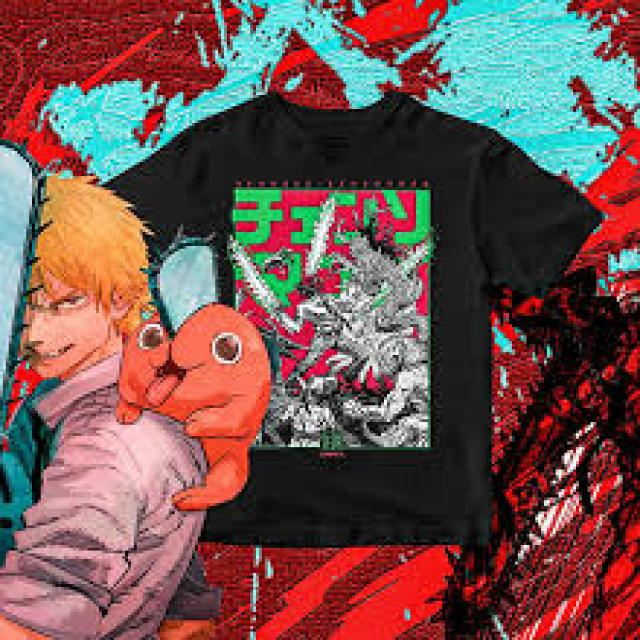Shirt: (58, 75, 599, 591)
